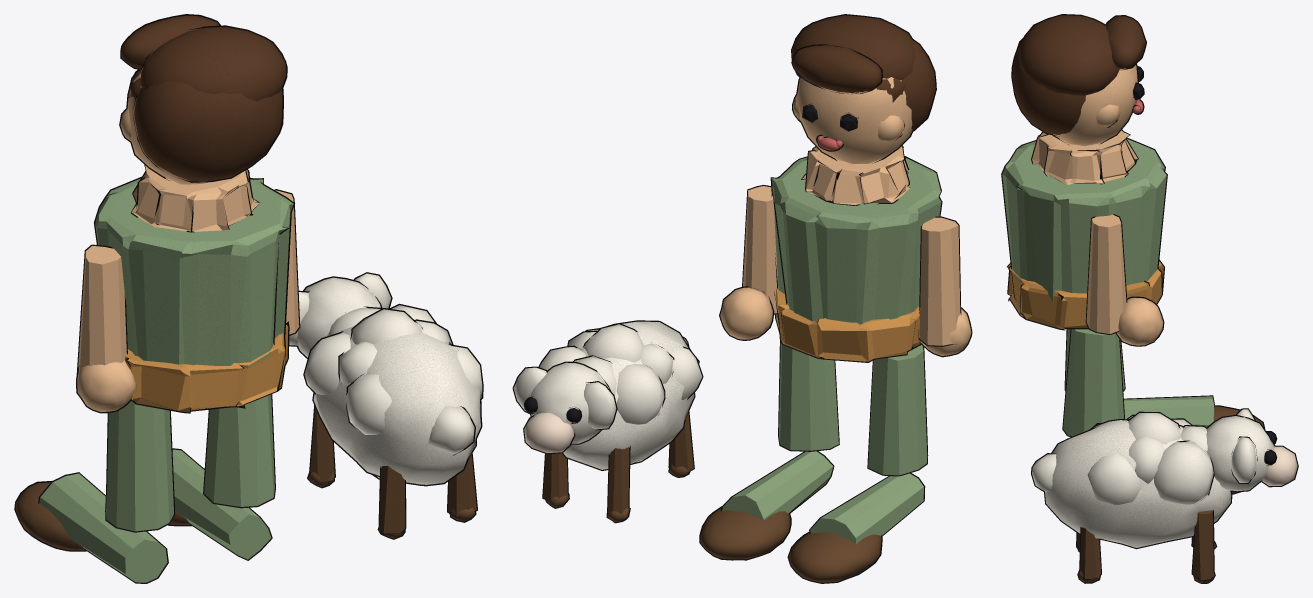
The model's file is david_mentor_v9.glb.
3 views of the same model, side by side, from view 1: azimuth 30°, elevation 25°; view 2: azimuth 150°, elevation 25°; view 3: azimuth 270°, elevation 25° (orthographic). The views are drawn at different scales.
Parts seen in each view (by area): view 1: David_Mentor, David_Mentor_Outline; view 2: David_Mentor, David_Mentor_Outline; view 3: David_Mentor, David_Mentor_Outline.
Boxes of the visible parts, bbox=[...] form: David_Mentor: bbox=[15, 15, 482, 582]; David_Mentor_Outline: bbox=[14, 14, 483, 583]; David_Mentor: bbox=[513, 15, 971, 582]; David_Mentor_Outline: bbox=[512, 14, 972, 583]; David_Mentor: bbox=[1002, 15, 1297, 582]; David_Mentor_Outline: bbox=[1001, 14, 1298, 583].
Size of the model in its own units: 0.9066 by 1.13 by 0.6708.
Materials: 10 (10 with a texture image).
